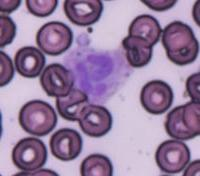N: (64, 48, 132, 102)
